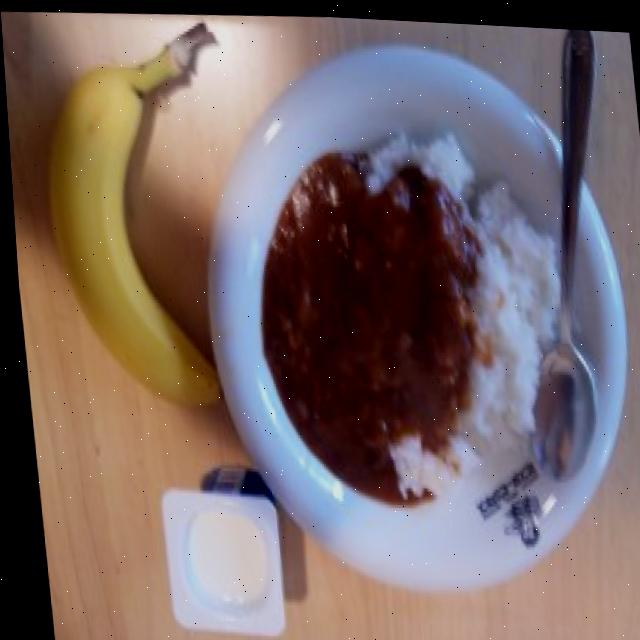牛肉菜式: (178, 41, 640, 594)
